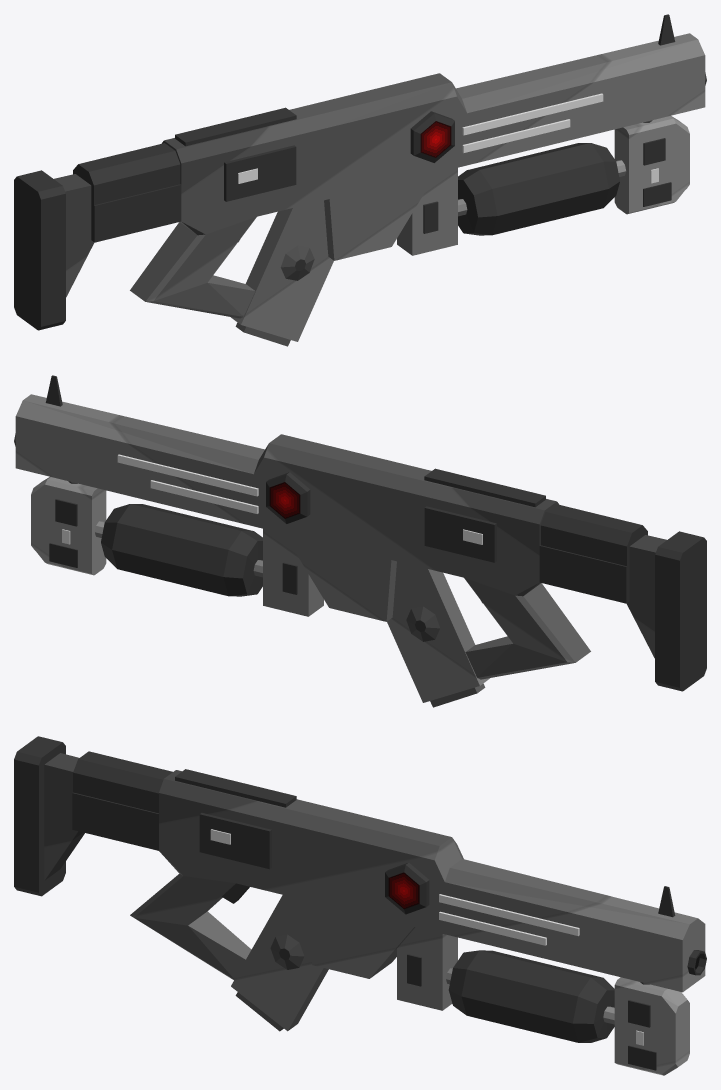
The model's file is Rifle_D_V2.FBX.
3 renders of one model, top to bottom at view 1: azimuth 30°, elevation 25°; view 2: azimuth 150°, elevation 25°; view 3: azimuth 330°, elevation 25°, orthographic.
Parts seen in each view (by area): view 1: Rifle_D_V2; view 2: Rifle_D_V2; view 3: Rifle_D_V2.
Part boxes in pixels (<box>): Rifle_D_V2: <box>14,14,706,341</box>; Rifle_D_V2: <box>14,375,706,702</box>; Rifle_D_V2: <box>14,736,706,1075</box>.
Bounding box in the file's own units: 392 × 131 × 36.54.
